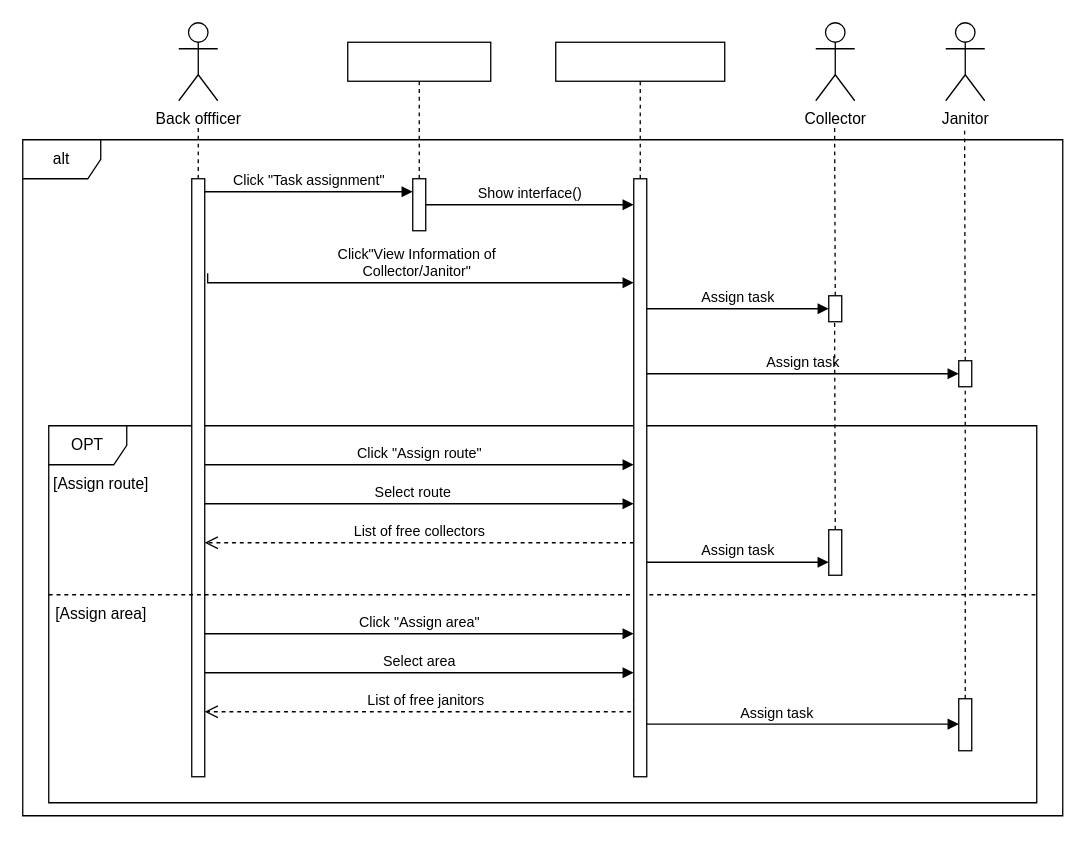
The diagram is 1086 pixels wide and 857 high, and some of its shapes have lost their labels. The shapes that lost their labels are listed below. From the top down, each one's box as (x1, y1, x2, y2) in pixels, then its label:
(346, 41, 491, 81): :MainPage
(554, 41, 725, 81): :TaskAssign Interface
